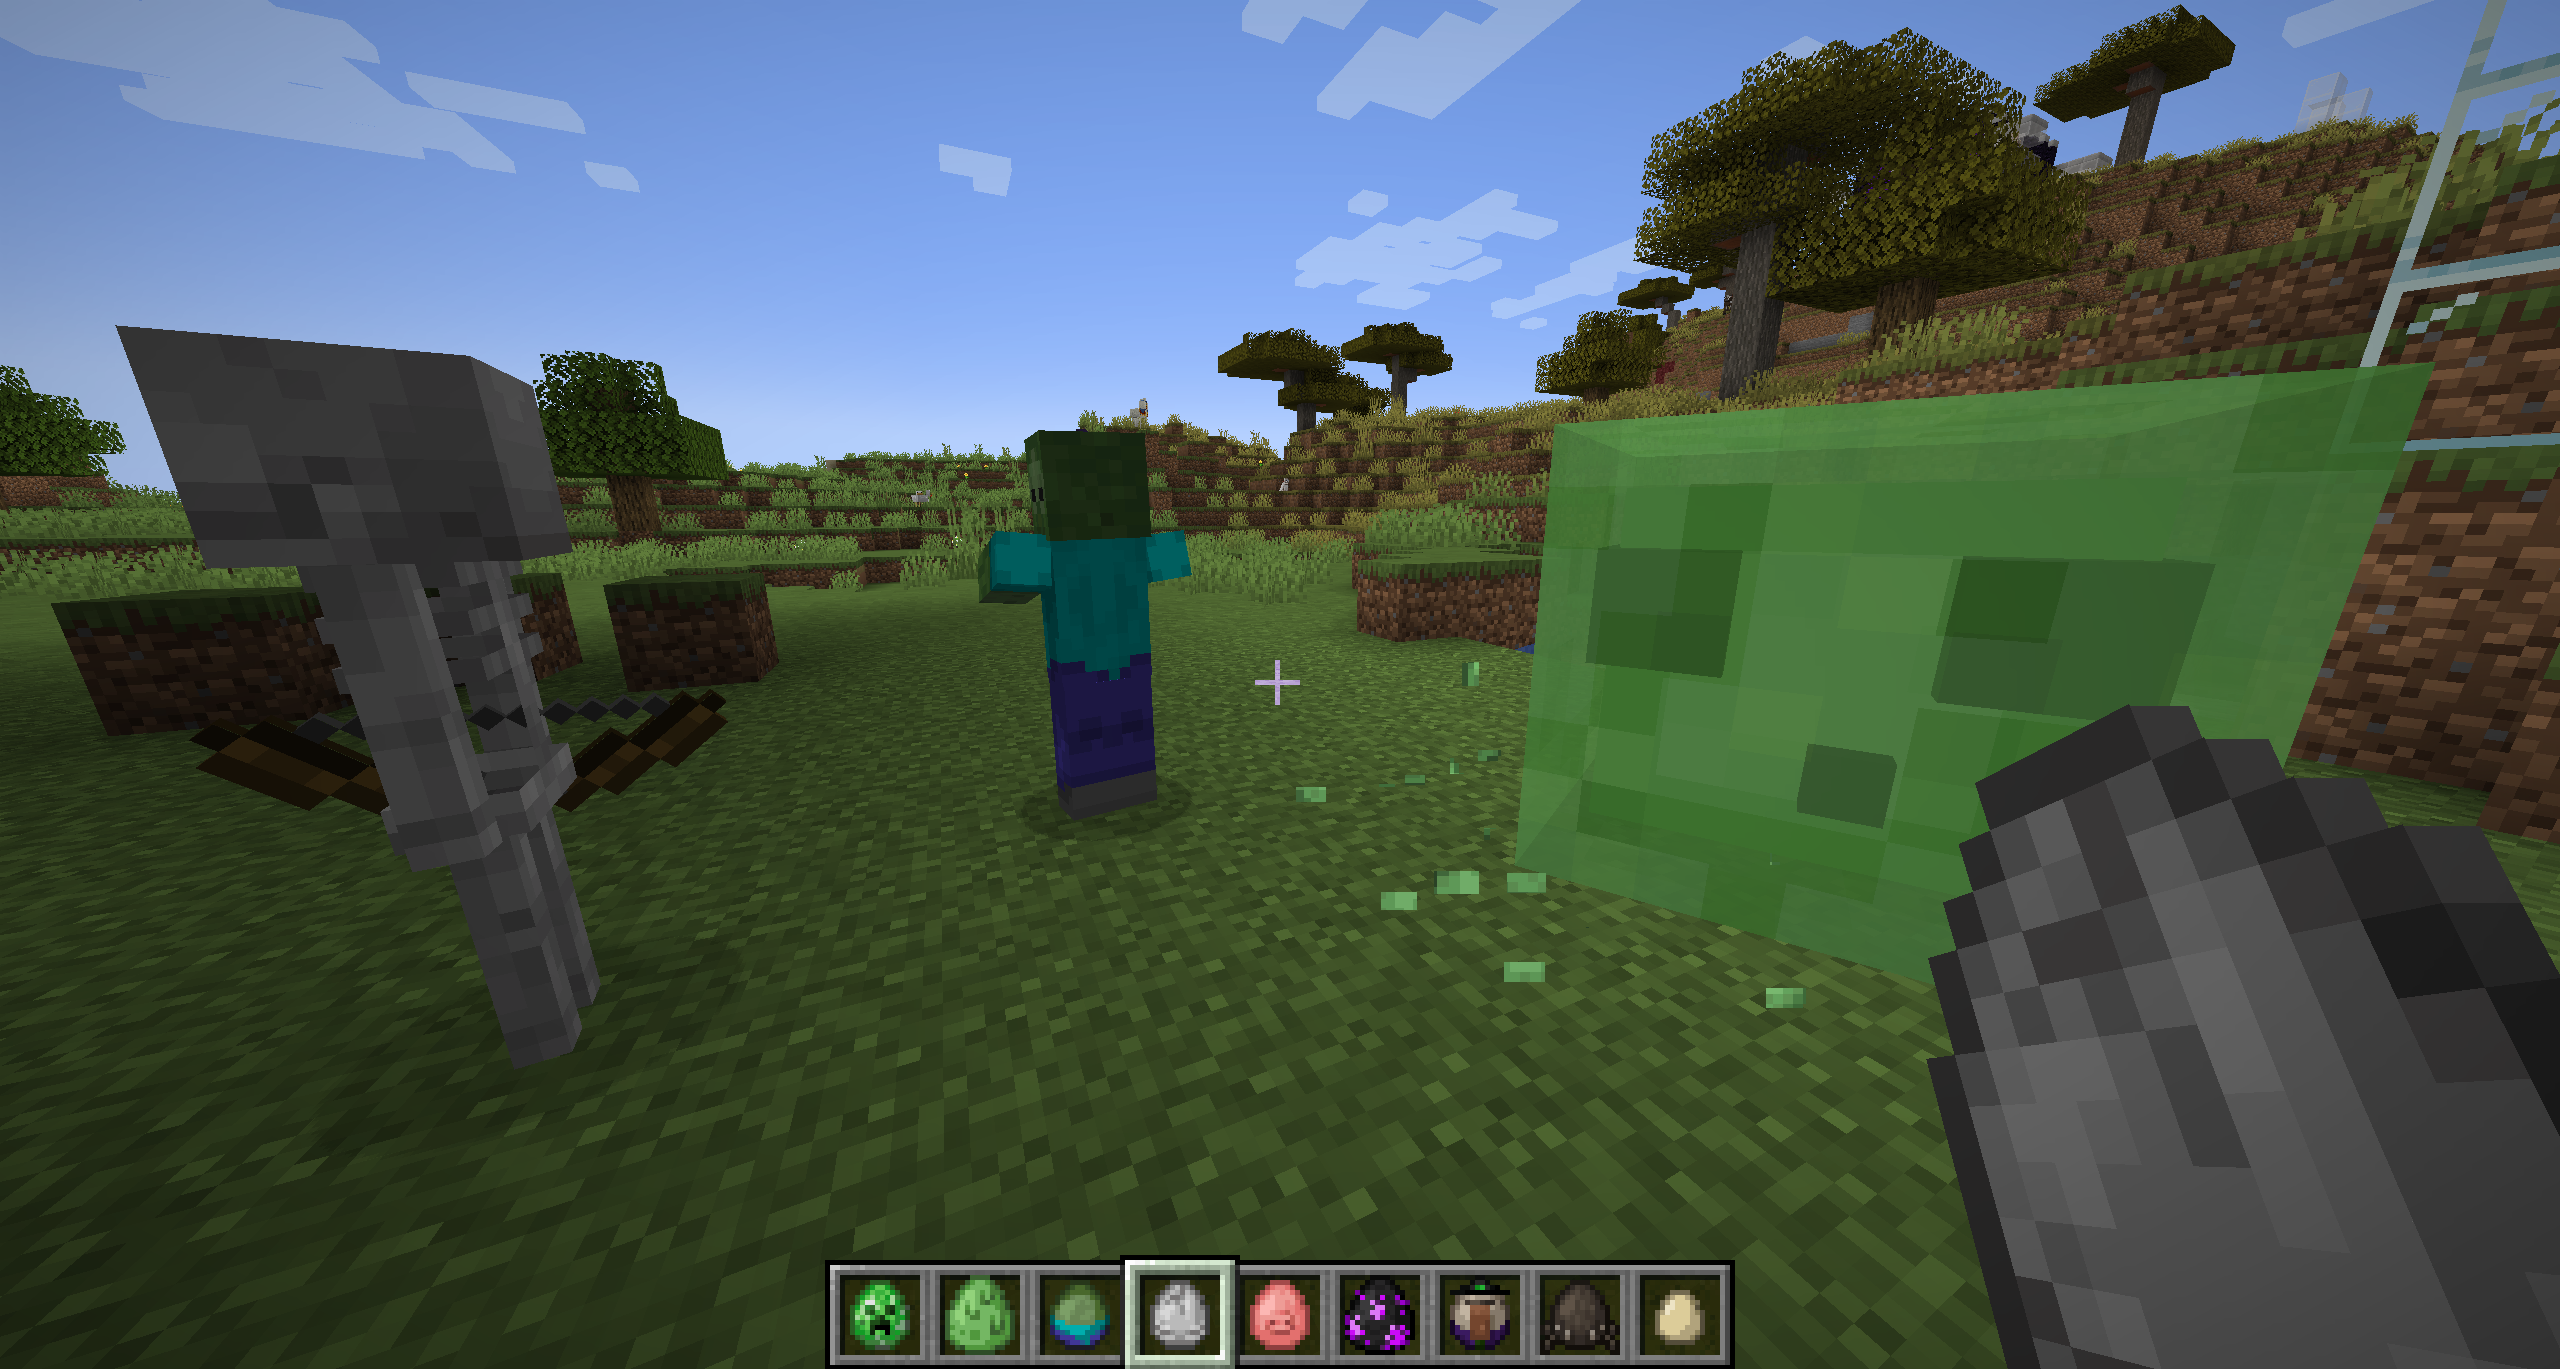slimes: (1539, 399, 2370, 1002)
squelettes: (110, 318, 608, 1075)
zombies: (999, 428, 1197, 816)
